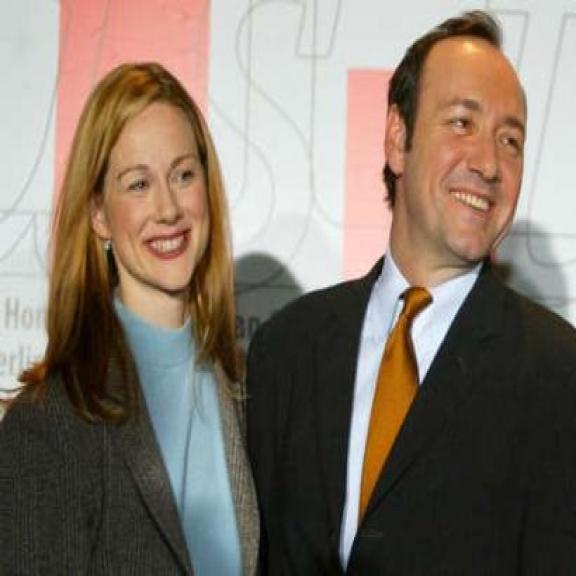face: (382, 37, 531, 264), (91, 101, 220, 294)
